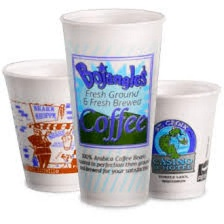paper_cup: (55, 5, 169, 211), (0, 53, 105, 196), (142, 73, 224, 204)
